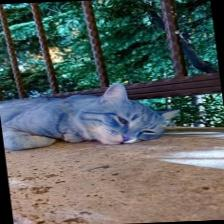kedo: (1, 82, 180, 153)
